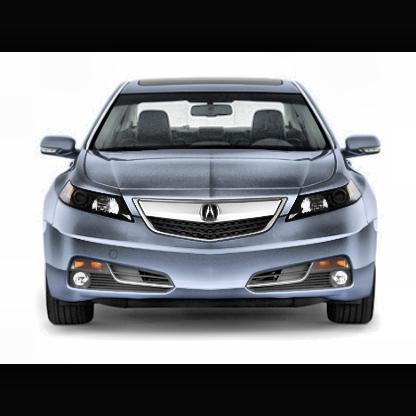Acura TL Sedan 2012: (32, 63, 399, 346)
